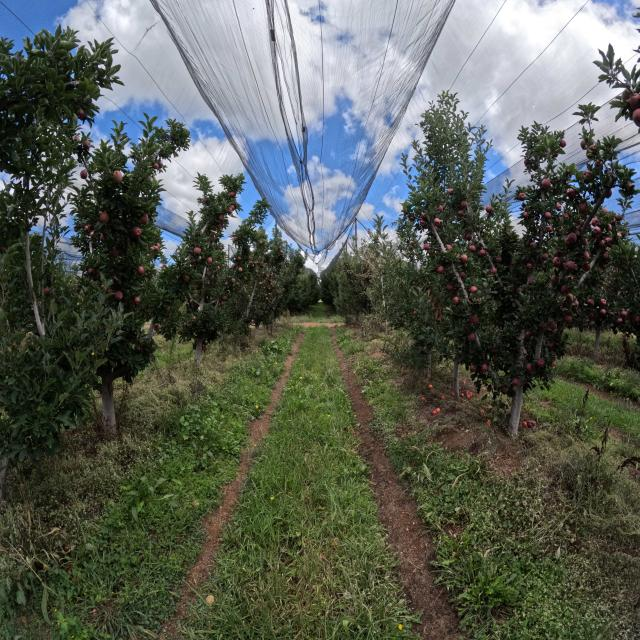-FireBlight-: (435, 303, 442, 323), (430, 294, 432, 304), (428, 289, 430, 297), (432, 302, 434, 310)
